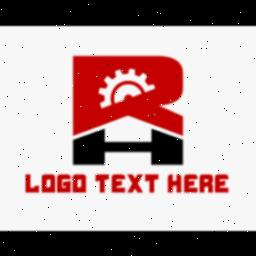r: (200, 174, 214, 194)
